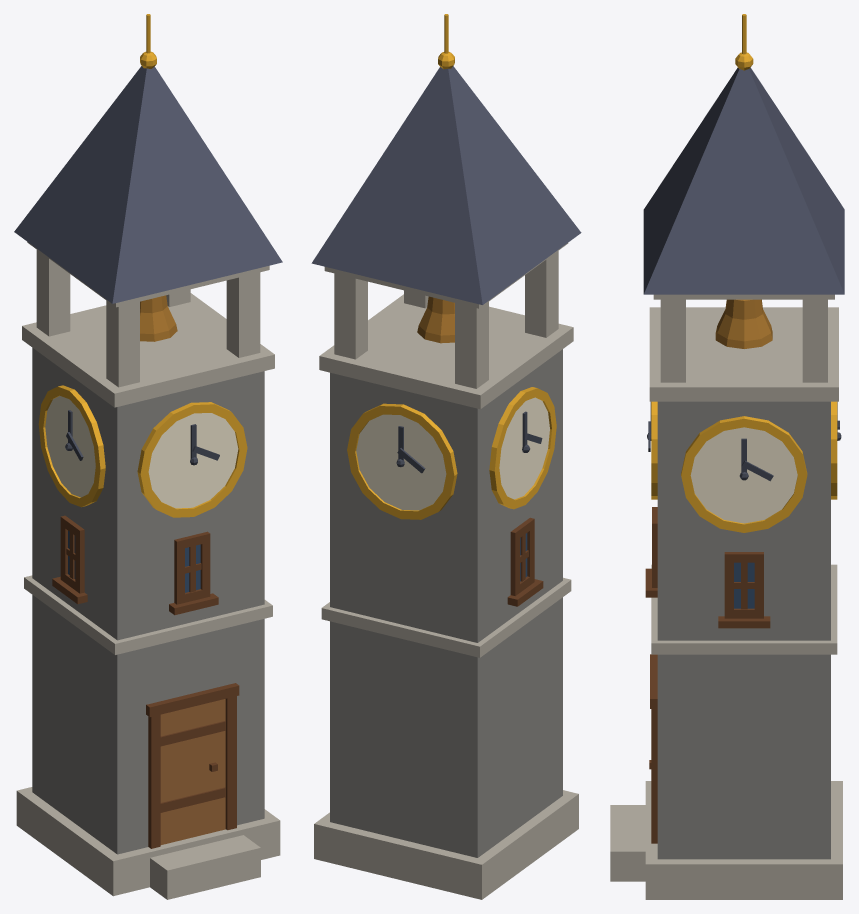
The model's file is clock-tower-source.glb.
3 views of the same model, side by side, from view 1: azimuth 30°, elevation 25°; view 2: azimuth 150°, elevation 25°; view 3: azimuth 270°, elevation 25° (orthographic). The views are drawn at different scales.
Parts seen in each view (by area): view 1: Tower shaft, Tower spire, Tower courses, Tower clock faces, Tower lantern, Tower door, Tower door frame, Tower clock rims, Tower step, Tower window frames, Tower bell, Tower clock hands; view 2: Tower shaft, Tower spire, Tower courses, Tower clock faces, Tower lantern, Tower clock rims, Tower window frames, Tower bell, Tower clock hands; view 3: Tower shaft, Tower spire, Tower courses, Tower clock faces, Tower lantern, Tower clock rims, Tower window frames, Tower step, Tower bell, Tower door frame, Tower clock hands, Tower windows.
Part boxes in pixels (x1,y1,x2,y2): Tower shaft: (32, 348, 264, 854); Tower spire: (14, 66, 282, 303); Tower courses: (16, 293, 280, 896); Tower clock faces: (45, 396, 238, 508); Tower lantern: (27, 242, 269, 387); Tower door: (160, 699, 225, 844); Tower door frame: (146, 683, 239, 848); Tower clock rims: (38, 385, 247, 517); Tower step: (150, 835, 260, 899); Tower window frames: (52, 515, 218, 615); Tower bell: (140, 295, 177, 341); Tower clock hands: (65, 410, 219, 465); Tower shaft: (330, 349, 562, 857); Tower spire: (311, 66, 581, 304); Tower courses: (314, 294, 578, 899); Tower clock faces: (356, 397, 549, 510); Tower lantern: (324, 243, 568, 388); Tower clock rims: (347, 387, 556, 519); Tower window frames: (507, 517, 543, 606); Tower bell: (417, 296, 454, 343); Tower clock hands: (396, 411, 542, 473); Tower shaft: (657, 401, 830, 859); Tower spire: (643, 67, 844, 294); Tower courses: (645, 307, 842, 899); Tower clock faces: (690, 427, 797, 523); Tower lantern: (653, 294, 834, 382); Tower clock rims: (651, 401, 837, 532); Tower window frames: (645, 507, 770, 628); Tower step: (610, 805, 645, 881); Tower bell: (715, 299, 772, 348); Tower door frame: (649, 654, 657, 843); Tower clock hands: (647, 402, 841, 481); Tower windows: (734, 562, 754, 608).
Size of the model in its own units: 2.55 by 11.8 by 2.98.
